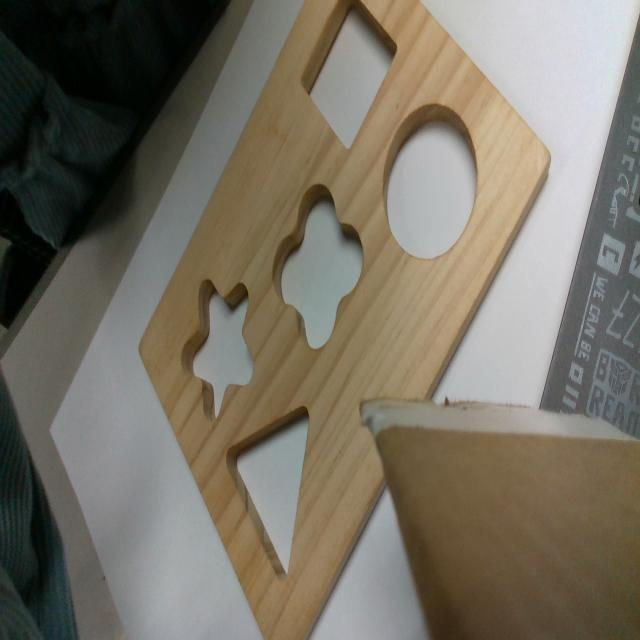circle: (384, 102, 478, 259)
flower: (274, 187, 366, 344)
square: (299, 2, 399, 156)
star: (182, 279, 253, 420)
triangle: (223, 403, 311, 584)
